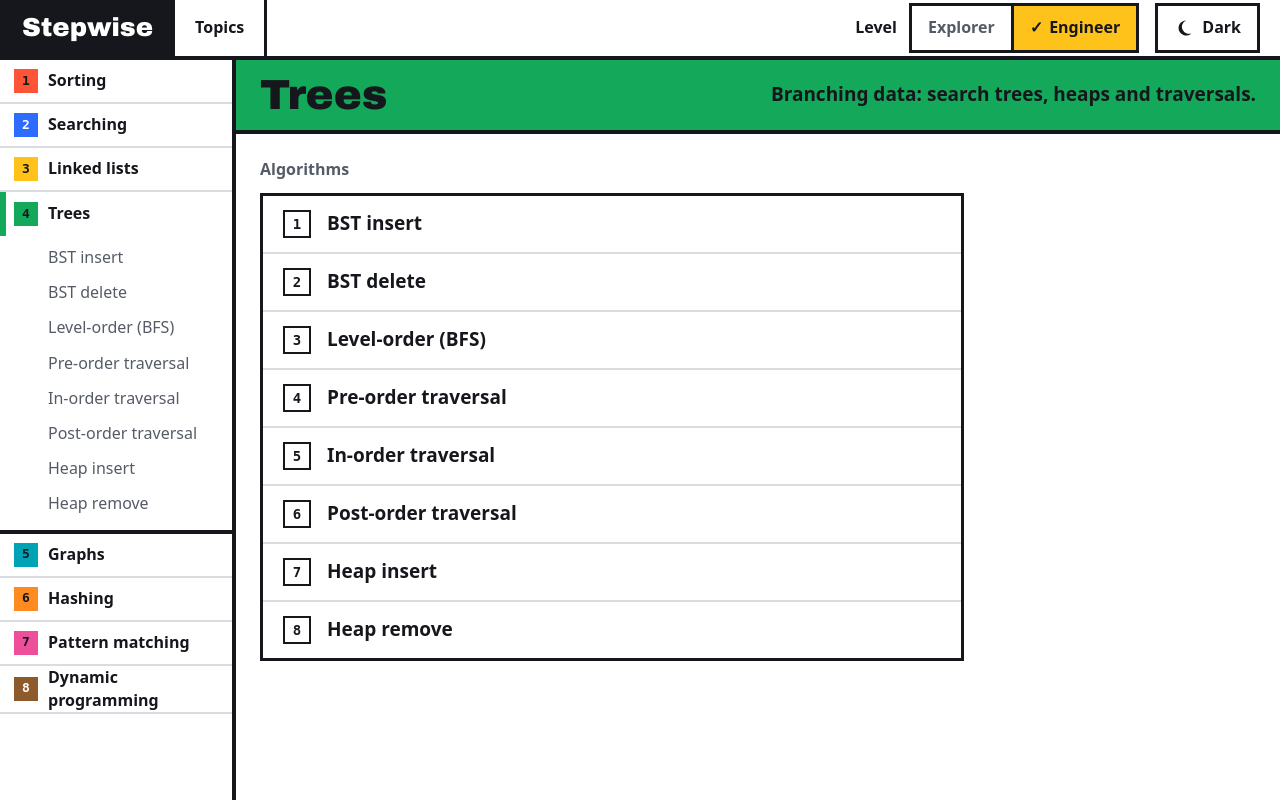
Test case: routes › the logo opens the welcome screen and Topics goes home, from any page
The image size is (1280, 800).
Click the link "Stepwise" at (88, 28), box [0,0,175,56]
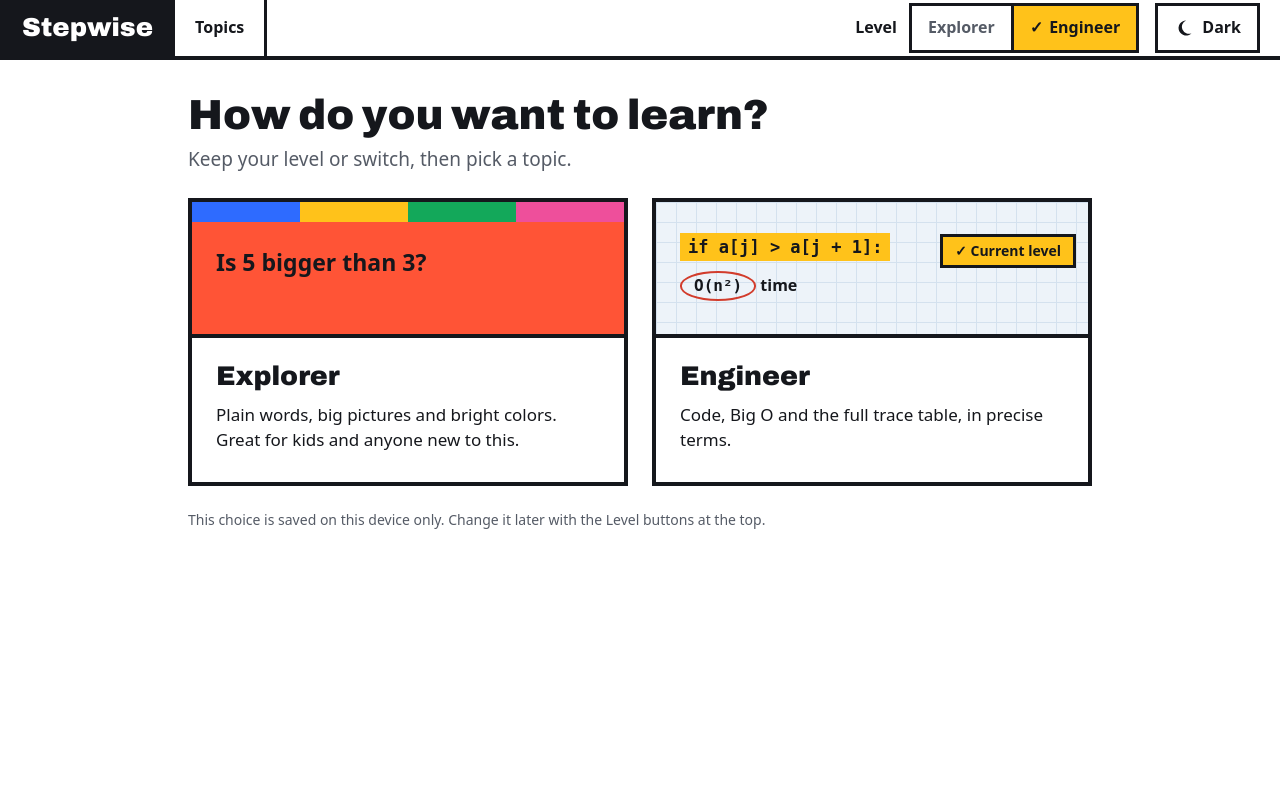
Expected: the heading reads "How do you want to learn?", [188,92,769,138]
Click the link "Topics" at (221, 28), box [175,0,267,56]
(page scrolled)
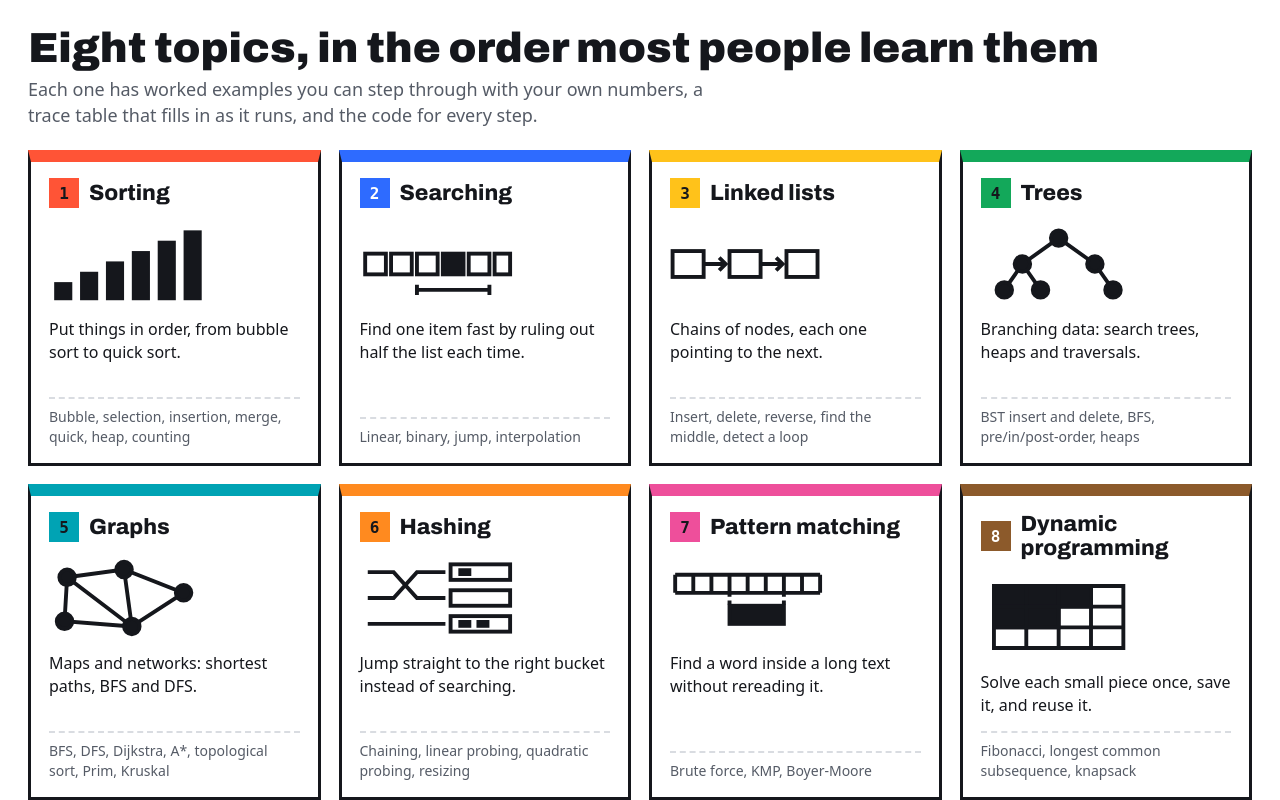
Expected: the heading "Eight topics, in the order most people learn them" is shown, [28,26,1252,70]
